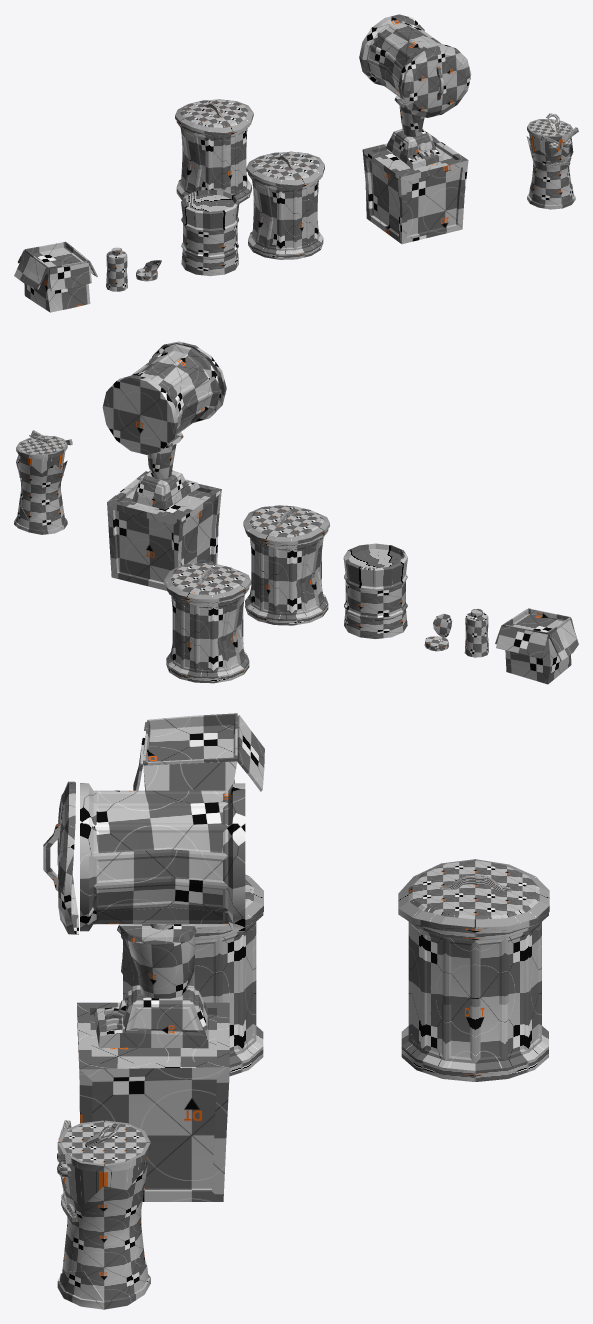
File: carton.FBX
3 renders of one model, top to bottom at view 1: azimuth 30°, elevation 25°; view 2: azimuth 150°, elevation 25°; view 3: azimuth 270°, elevation 25°, orthographic. The views are drawn at different scales.
Parts seen in each view (by area): view 1: Caisse, Poubelle001, Poubelle002, Toxic_barrel, Open_Box, couvercle, Ennemi_canette, poubelle, Blender, Pile, Conserve_fine; view 2: Caisse, Poubelle002, Poubelle001, poubelle, Toxic_barrel, Open_Box, Ennemi_canette, Blender, Pile, Conserve_fine, couvercle; view 3: Poubelle002, poubelle, Caisse, Ennemi_canette, Blender, Open_Box, Poubelle001, couvercle.
Boxes of the visible parts, <box> form: Caisse: <box>362,134,468,244</box>; Poubelle001: <box>246,151,324,259</box>; Poubelle002: <box>175,99,253,203</box>; Toxic_barrel: <box>181,189,239,276</box>; Open_Box: <box>14,241,97,312</box>; couvercle: <box>401,45,471,117</box>; Ennemi_canette: <box>526,113,578,209</box>; poubelle: <box>359,14,451,102</box>; Blender: <box>386,96,443,169</box>; Pile: <box>106,247,127,291</box>; Conserve_fine: <box>136,260,161,281</box>; Caisse: <box>107,471,221,590</box>; Poubelle002: <box>164,563,251,683</box>; Poubelle001: <box>243,505,329,625</box>; poubelle: <box>102,344,220,454</box>; Toxic_barrel: <box>343,543,407,638</box>; Open_Box: <box>495,608,578,684</box>; Ennemi_canette: <box>14,430,72,534</box>; Blender: <box>132,432,199,509</box>; Pile: <box>464,609,488,657</box>; Conserve_fine: <box>424,613,452,651</box>; couvercle: <box>152,341,226,422</box>; Poubelle002: <box>398,859,549,1081</box>; poubelle: <box>80,783,245,931</box>; Caisse: <box>77,1002,229,1201</box>; Ennemi_canette: <box>57,1120,150,1309</box>; Blender: <box>94,924,208,1048</box>; Open_Box: <box>133,713,264,791</box>; Poubelle001: <box>123,874,263,1076</box>; couvercle: <box>43,781,78,934</box>.
Size of the model in its own units: 319 by 111 by 133.
Materials: 1 (1 with a texture image).
